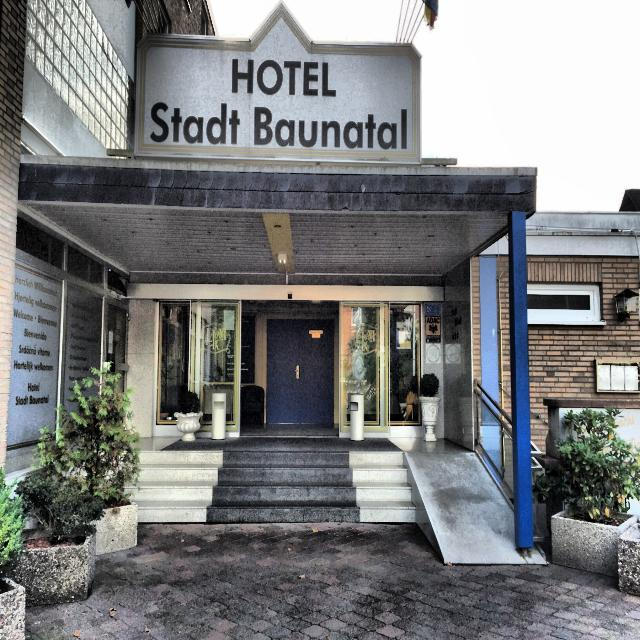escada: (140, 452, 415, 523)
